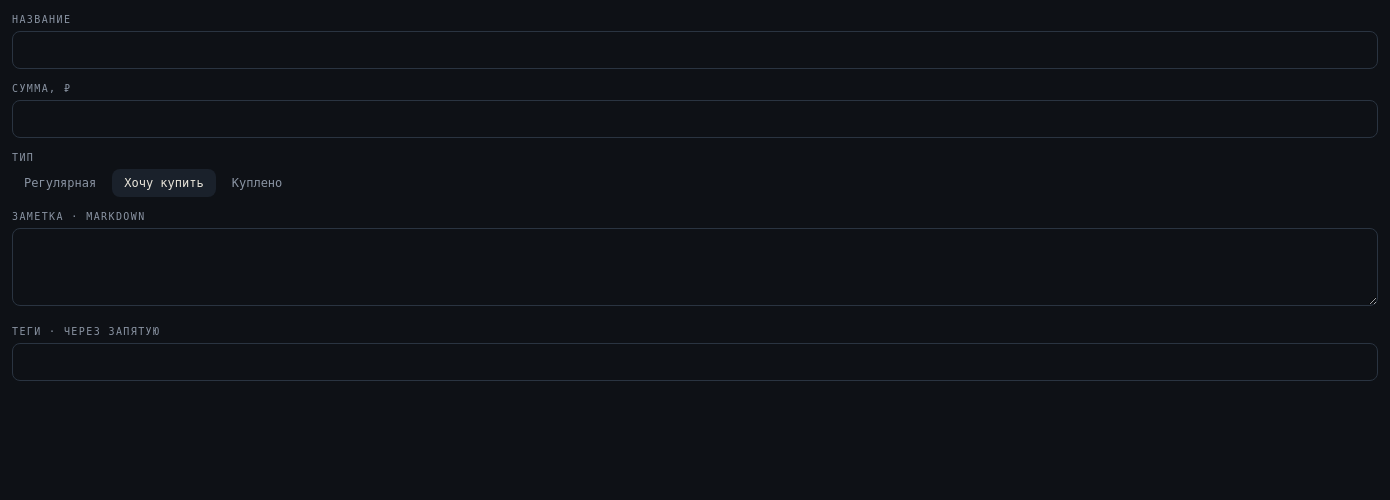
Scenario: ExpenseForm › период и дата списания видны только у регулярной
The width and height of the screenshot is (1390, 500).
expect the field labelled "Период" is not shown: met
Click the radio button labelled "Регулярная". click: (60, 183)
box: x1=24 y1=176 x2=96 y2=190
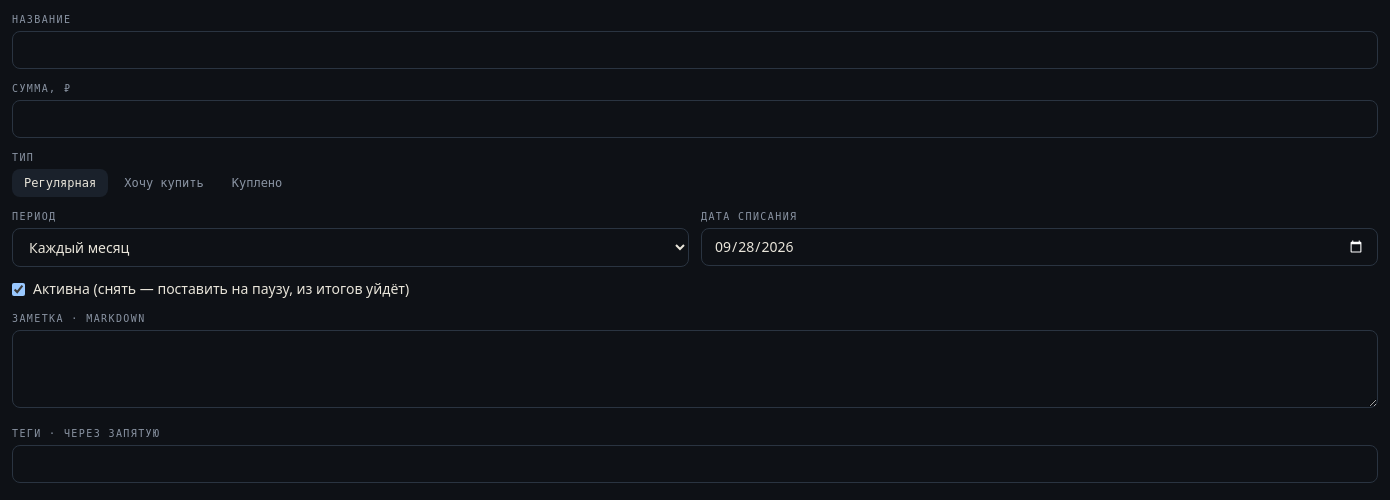
expect the dropdown labelled "Период" is shown: met, box x1=12 y1=228 x2=689 y2=267
expect the checkbox labelled "Активна" is checked: met, box x1=12 y1=282 x2=25 y2=296
